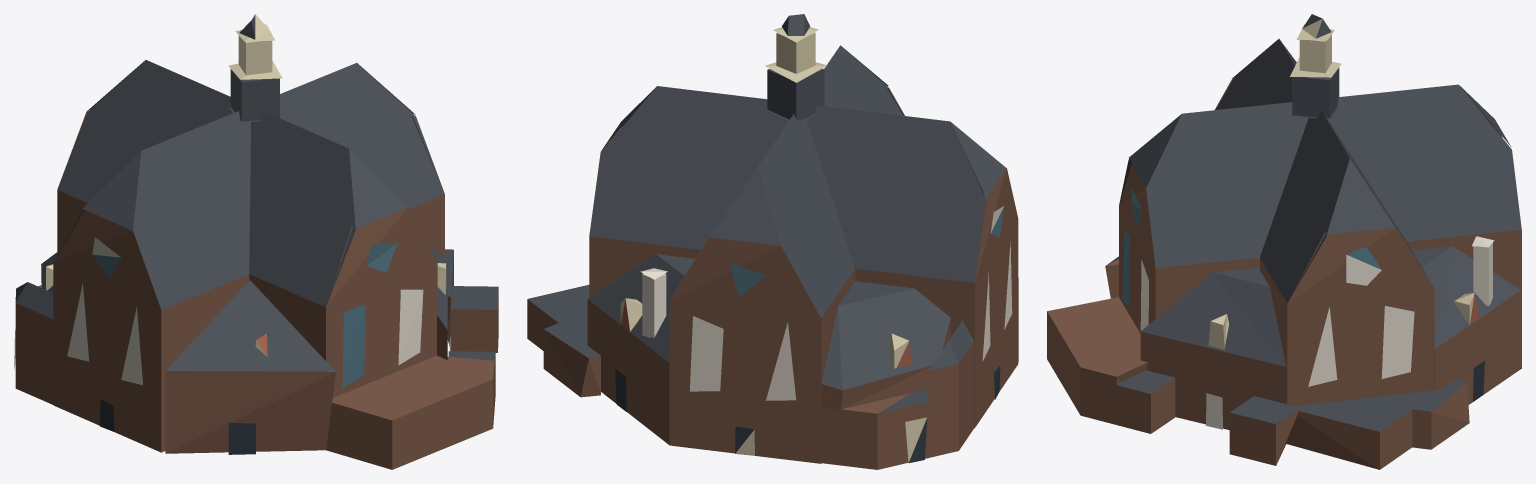
The model's file is noorderkerk.lod2.glb.
3 renders of one model, left to right at view 1: azimuth 30°, elevation 25°; view 2: azimuth 150°, elevation 25°; view 3: azimuth 270°, elevation 25°, orthographic. The views are drawn at different scales.
Parts seen in each view (by area): view 1: lod2; view 2: lod2; view 3: lod2.
Part boxes in pixels (left/top/right/bottom): lod2: left=14, top=14, right=498, bottom=469; lod2: left=527, top=14, right=1018, bottom=469; lod2: left=1047, top=14, right=1521, bottom=469.
Bounding box in the file's own units: 47.44 × 36.94 × 46.34.
